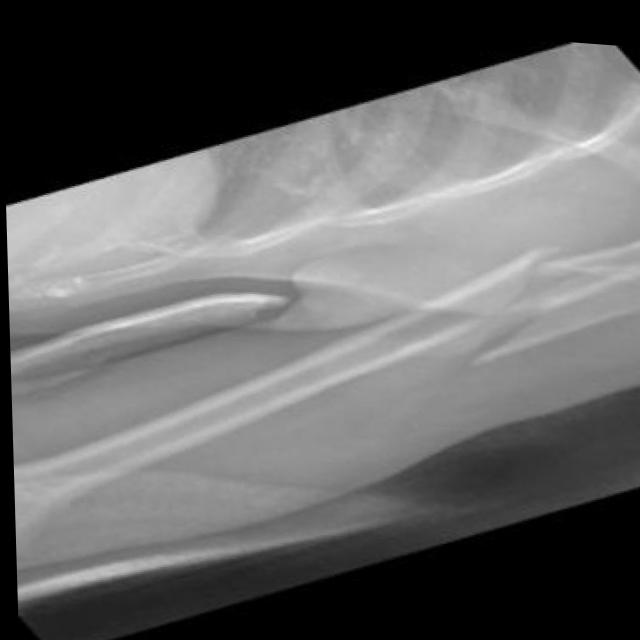fracture: (462, 213, 600, 386)
